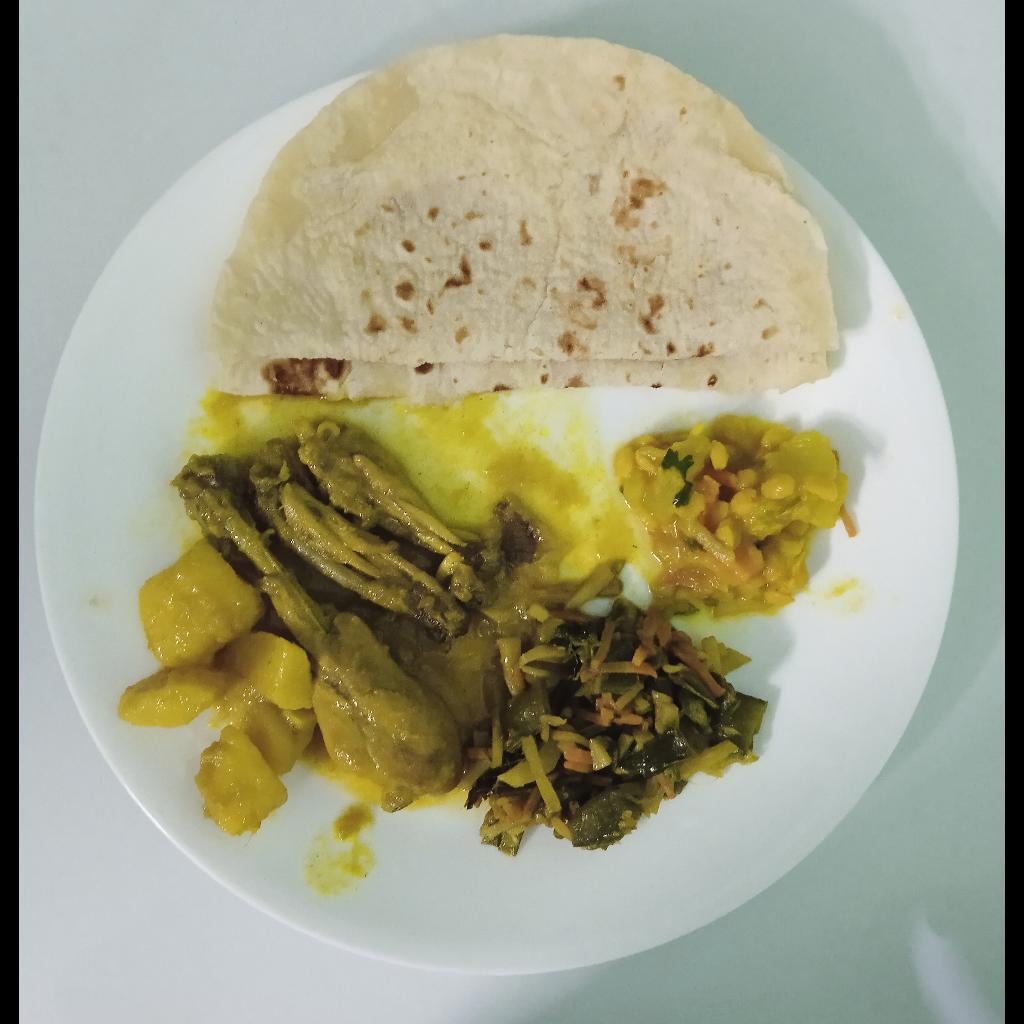chicken: (174, 415, 540, 814)
lau: (615, 416, 850, 618)
potato: (116, 535, 314, 838)
ruti: (204, 32, 845, 408)
vegetable: (467, 557, 771, 860)
